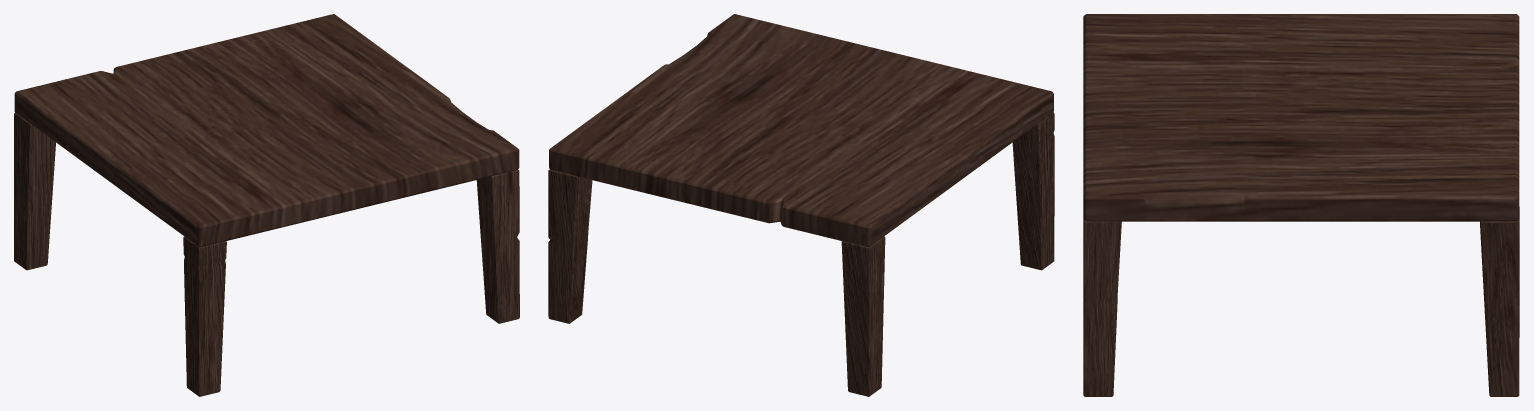
File: stage.gltf
3 views of the same model, side by side, from view 1: azimuth 30°, elevation 25°; view 2: azimuth 150°, elevation 25°; view 3: azimuth 270°, elevation 25° (orthographic). The views are drawn at different scales.
Parts seen in each view (by area): view 1: Table.001; view 2: Table.001; view 3: Table.001.
Boxes of the visible parts, bbox=[...] form: Table.001: bbox=[14, 14, 519, 396]; Table.001: bbox=[548, 14, 1054, 396]; Table.001: bbox=[1083, 14, 1519, 396].
Bounding box in the file's own units: 1.72 × 0.8758 × 1.73.
1 material, 1 textured.
